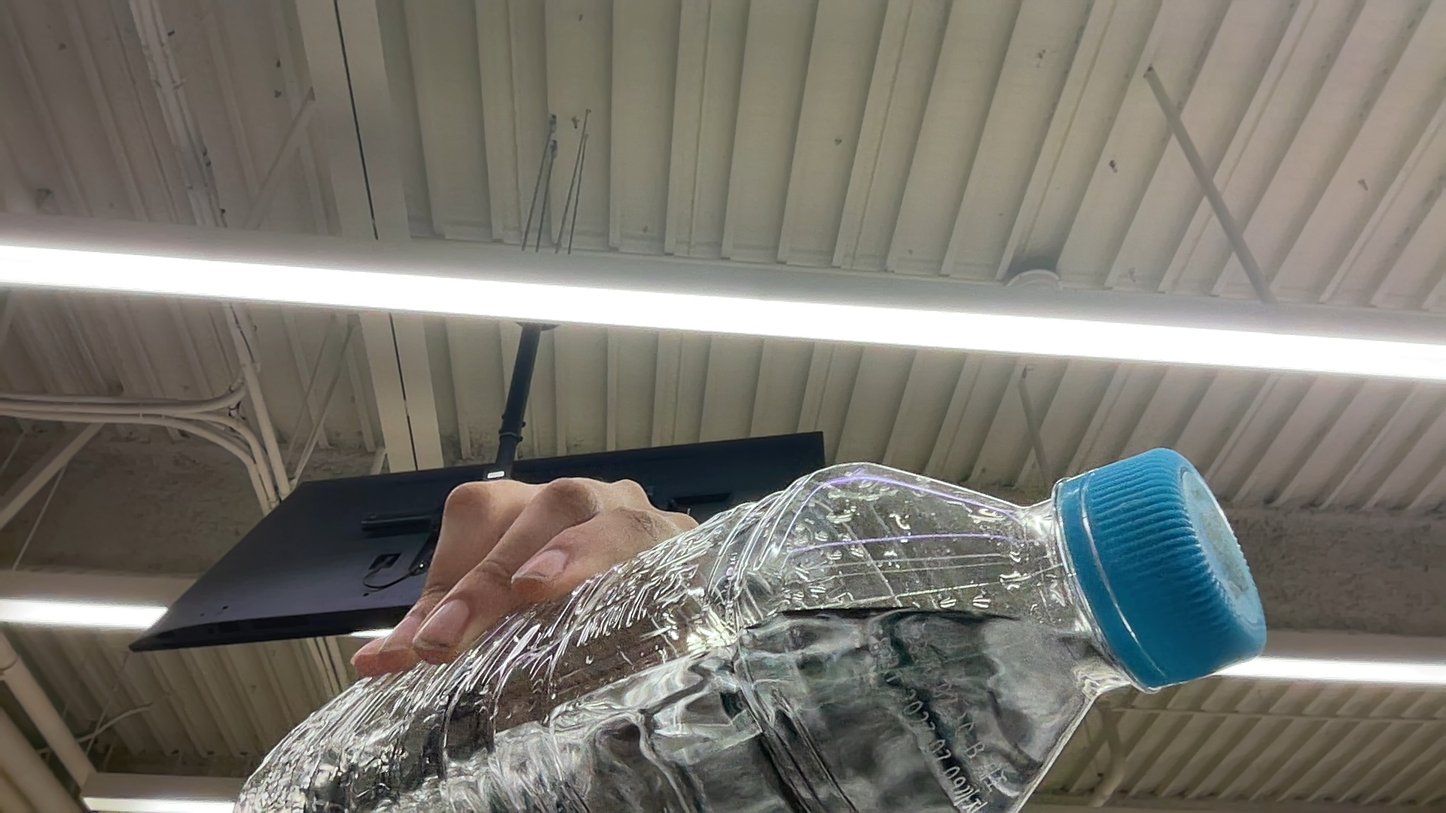Plastic: (1047, 445, 1271, 669)
